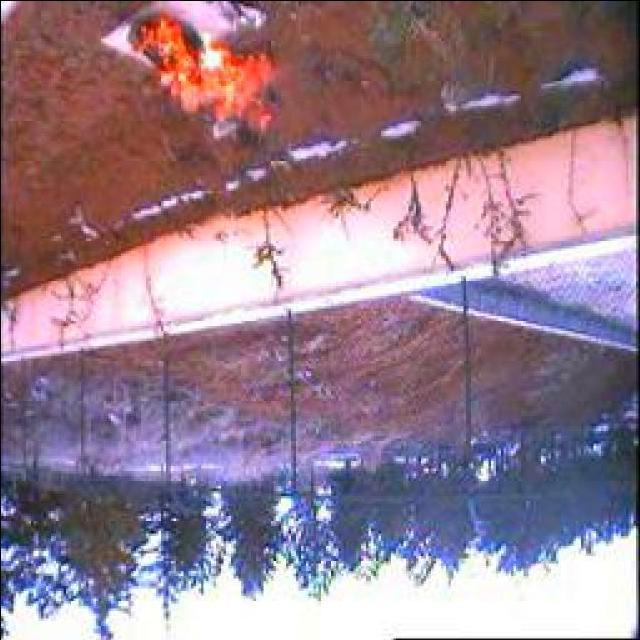Fire: (127, 14, 274, 130)
